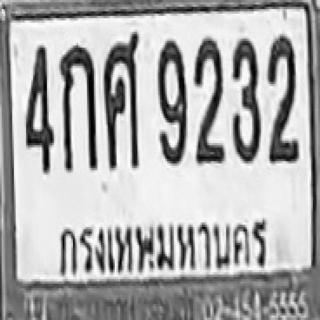A01: (58, 44, 97, 171)
A38: (102, 32, 139, 168)
N02: (193, 35, 224, 164), (266, 34, 297, 163), (267, 42, 298, 162), (195, 41, 224, 164)
N03: (231, 36, 261, 163)
N04: (24, 43, 54, 172)
N09: (156, 38, 186, 164)
P04: (53, 216, 273, 284)
